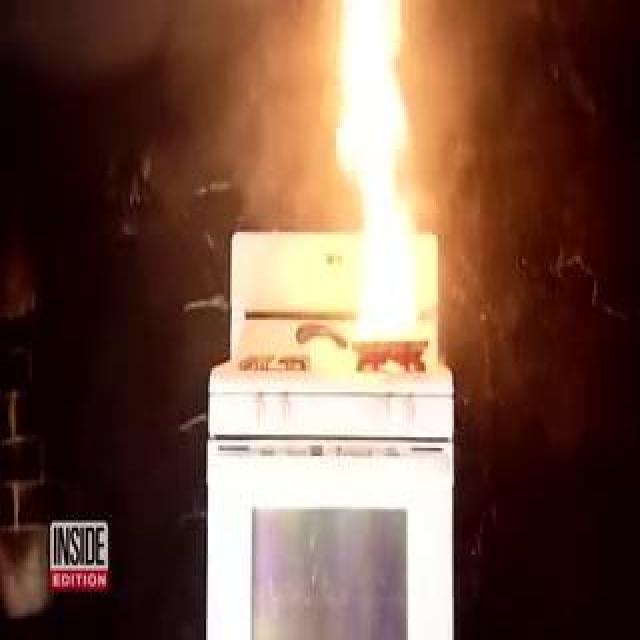Fire: (130, 180, 383, 354)
